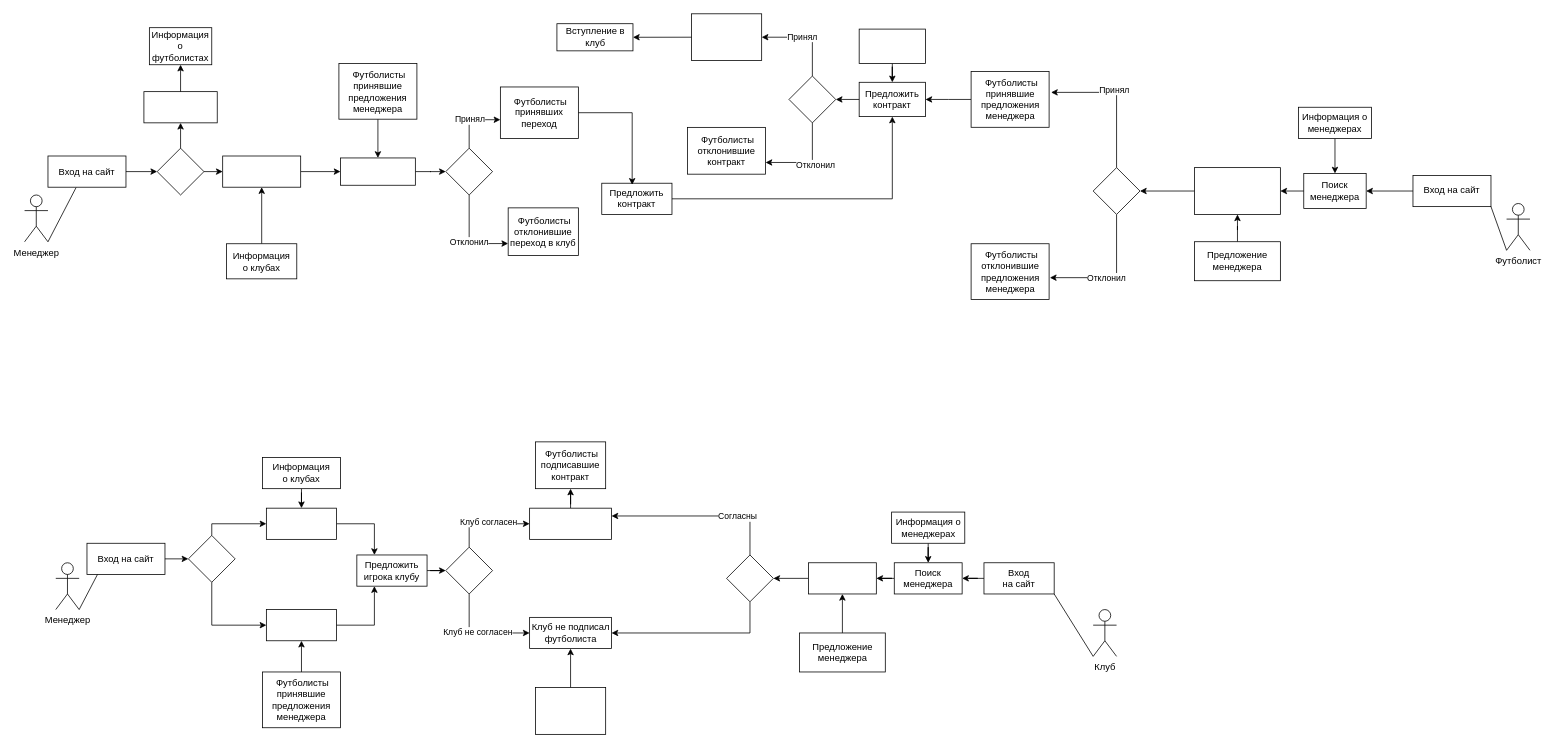
The diagram is 1555 pixels wide and 748 high, and some of its shapes have lost their labels. The shapes that lost their labels are listed below. From the top down, each one's centre as x and y in pixels, then its label:
(726,37): Футболисты принявшие контракт
(891,45): База контрактов
(180,107): Поиск футболиста
(261,171): Поисков клубов
(377,171): Переход в клуб
(1237,190): Просмотр предложения менеджера о клубах
(301,523): Поиск клуба
(570,523): Клуб подписал футболиста
(842,578): Подписать игрока
(301,625): Поиск игроков
(570,710): Футболисты не подписавшие контракт
